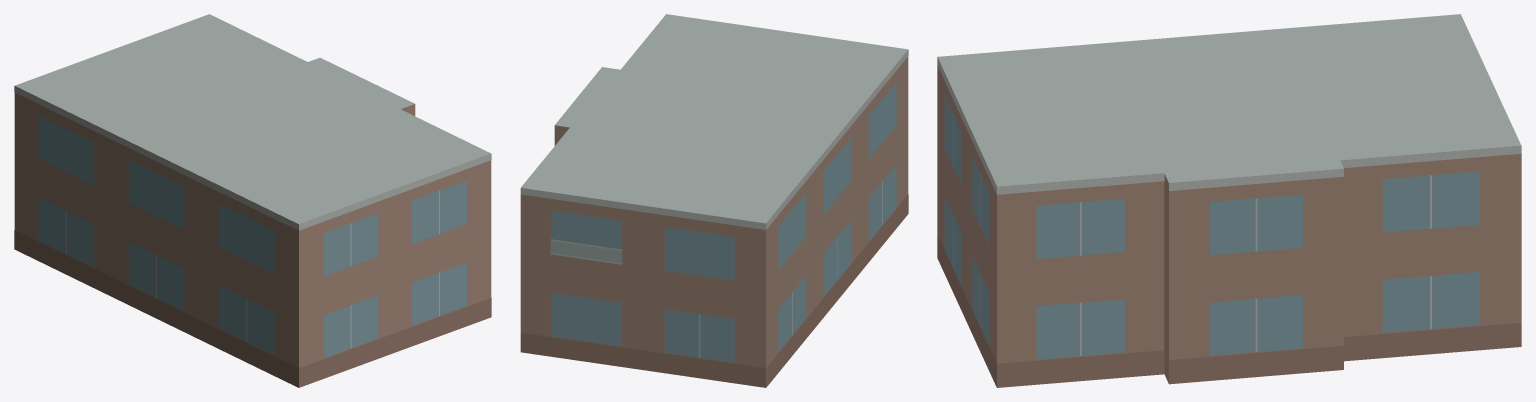
Rendered from survey-upis-32709168.glb.
3 views of the same model, side by side, from view 1: azimuth 30°, elevation 25°; view 2: azimuth 150°, elevation 25°; view 3: azimuth 270°, elevation 25° (orthographic). The views are drawn at different scales.
Visible parts, largest first — view 1: survey-upis-32709168.tmp; view 2: survey-upis-32709168.tmp; view 3: survey-upis-32709168.tmp.
Boxes of the visible parts, x1,y1,x2,y2 form: survey-upis-32709168.tmp: (14, 14, 491, 387); survey-upis-32709168.tmp: (520, 14, 908, 387); survey-upis-32709168.tmp: (937, 14, 1521, 387).
Bounding box in the file's own units: 11.25 × 6.1 × 16.07.
